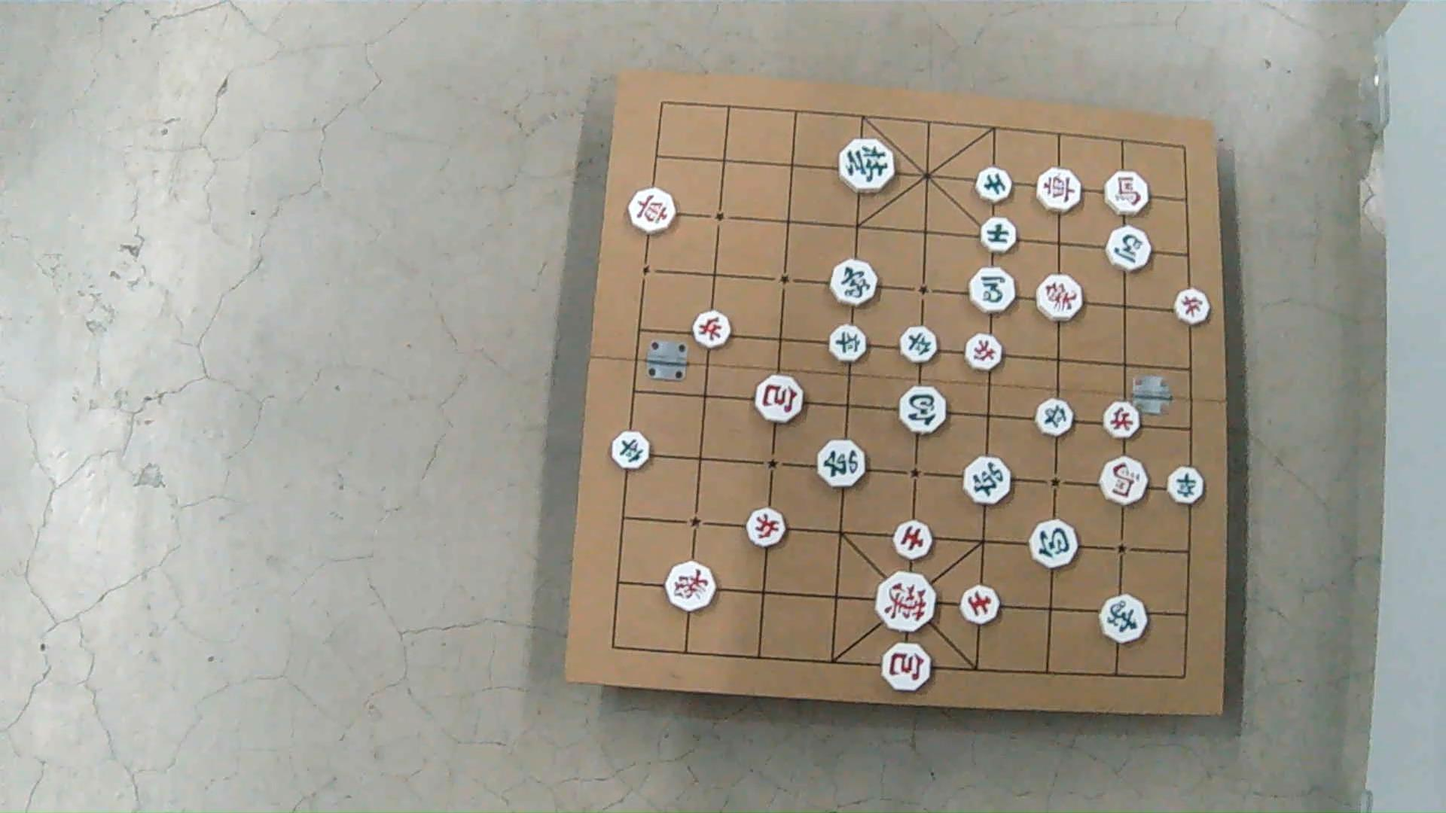cha_green: (819, 440, 868, 488), (967, 458, 1014, 506)
cha_red: (629, 187, 676, 234), (1034, 170, 1079, 215)
jol_green: (612, 431, 651, 470), (826, 327, 865, 363), (903, 328, 940, 365), (1036, 398, 1072, 435), (1167, 467, 1203, 504)
jol_red: (746, 510, 784, 549), (695, 310, 734, 347), (965, 336, 1002, 371), (1176, 290, 1211, 327), (1103, 402, 1139, 437)
ma_green: (969, 267, 1016, 314), (1105, 226, 1150, 271)
ma_red: (1100, 456, 1148, 504), (1106, 172, 1149, 216)
po_green: (898, 388, 946, 436), (1031, 521, 1078, 568)
po_red: (880, 644, 929, 693), (757, 377, 805, 424)
sa_green: (980, 217, 1017, 253), (975, 167, 1011, 202)
sa_red: (960, 584, 1000, 623), (896, 522, 935, 561)
sang_green: (1099, 596, 1146, 643), (828, 259, 875, 306)
sang_red: (664, 560, 716, 612), (1036, 274, 1081, 321)
wang_green: (840, 141, 895, 194)
wang_red: (875, 574, 935, 633)
